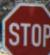Stop sign: (0, 0, 49, 54)
